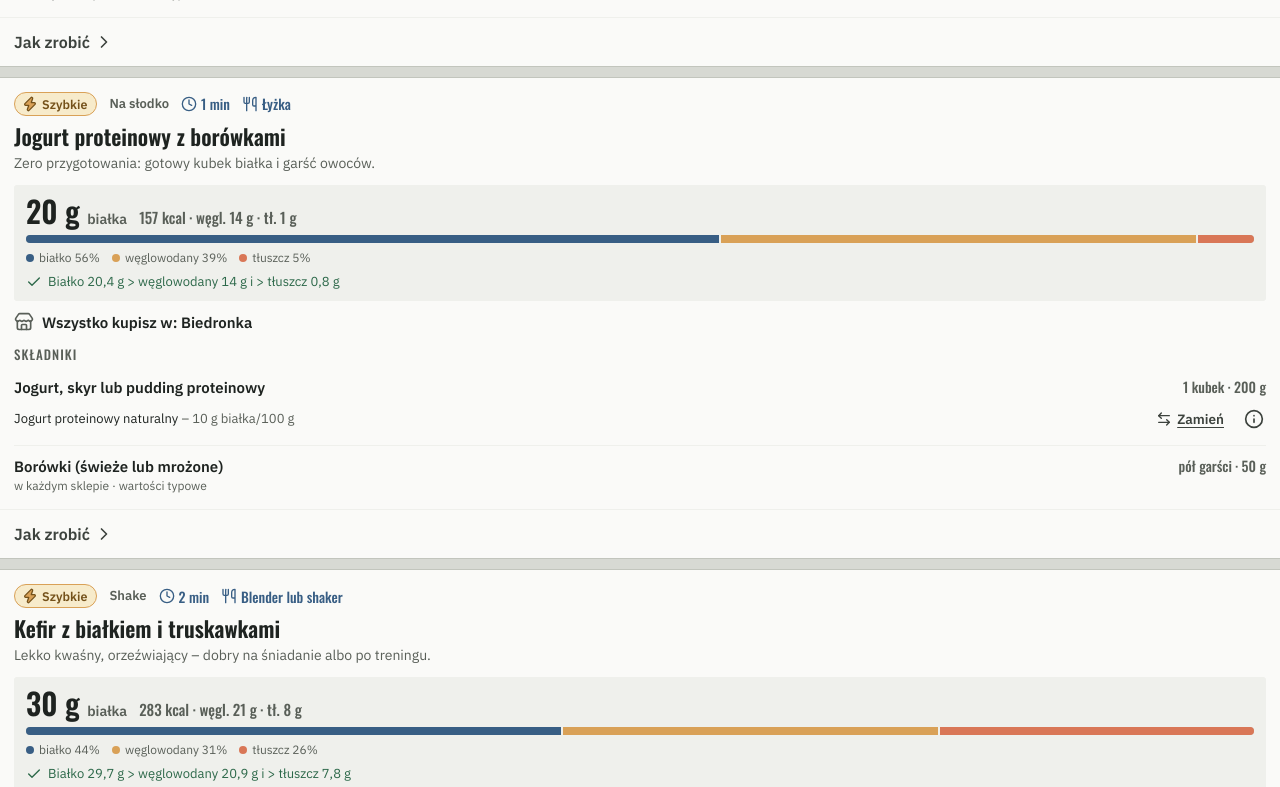
Przepisy › lista zamiany to wybór sam w sobie: produkty z tego sklepu, po kolei, z zaznaczonym obecnym
This screenshot has width=1280, height=787.
(page scrolled)
Click the button with aria-label "Zamień: Jogurt, skyr lub pudding proteinowy" at (1190, 419), box [1148, 397, 1232, 441]
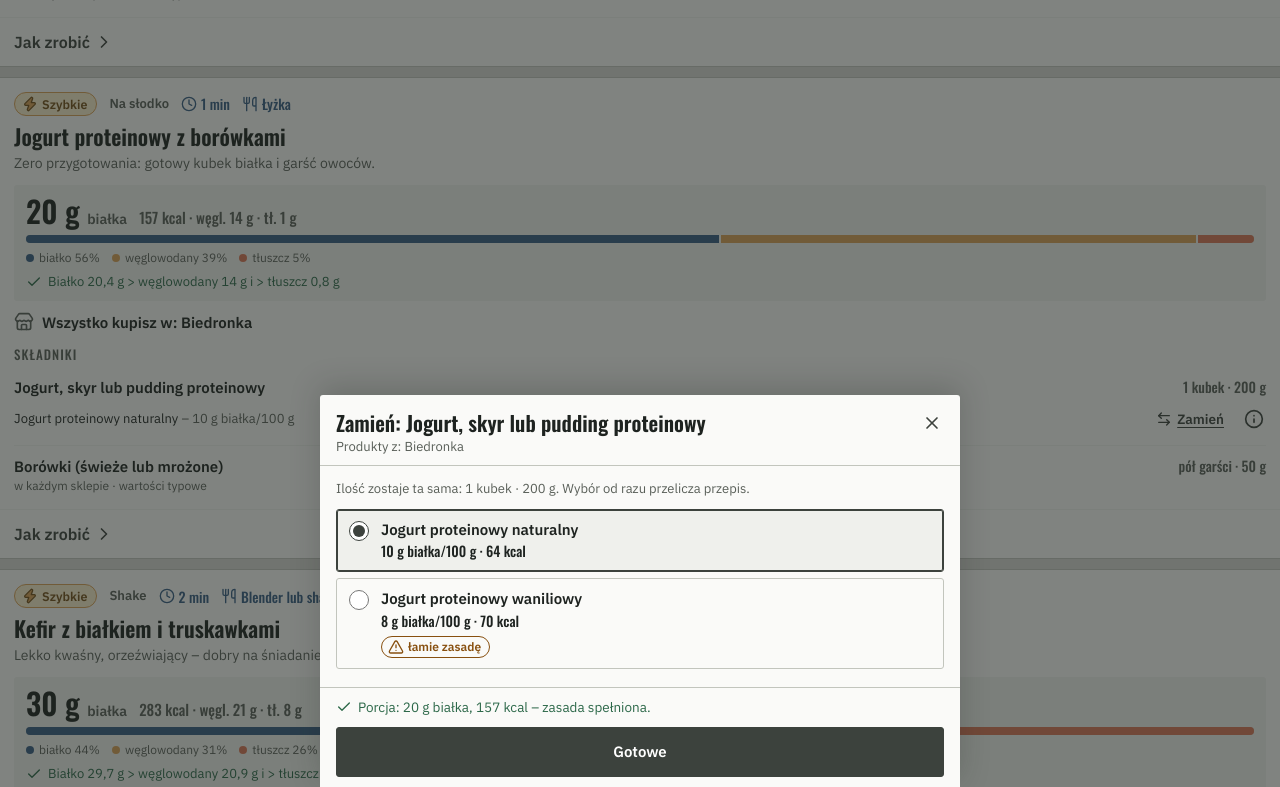
Expected: the text "Produkty z: Biedronka" is shown, [336, 438, 464, 455]
Expected: the radio button labelled "Jogurt proteinowy naturalny 10 g białka/100 g · 64 kcal" is checked, [349, 521, 369, 541]
Expected: the 2nd radio button is shown, [349, 590, 369, 610]
